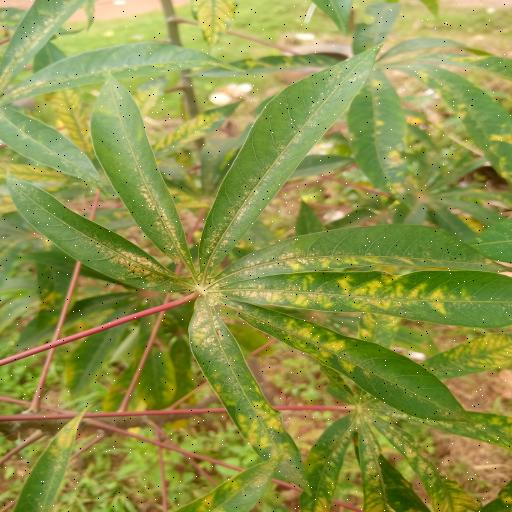Cassava_Mosaic: (12, 55, 512, 503)
